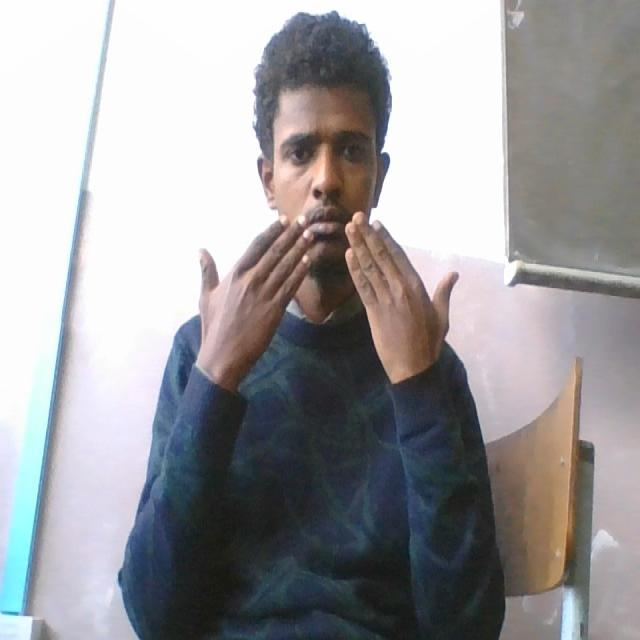ymesgen: (183, 188, 470, 404)
